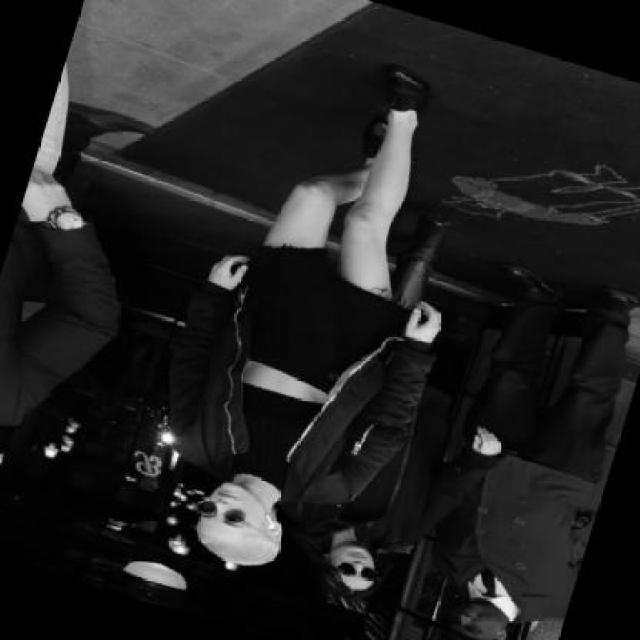earphone: (260, 504, 289, 546)
